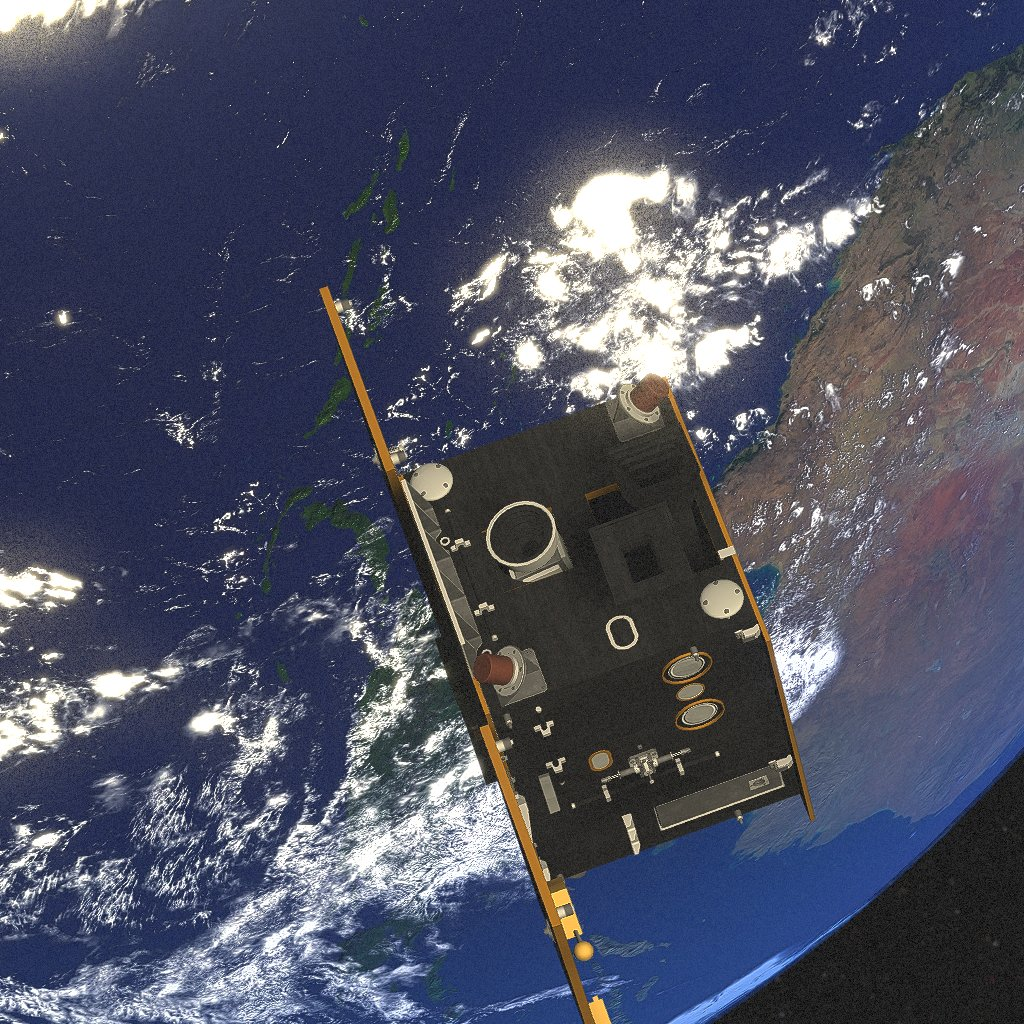proba_2: (319, 286, 815, 1024)
